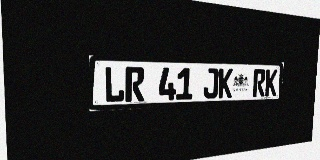1: (176, 68, 193, 100)
4: (159, 67, 176, 101)
J: (203, 68, 219, 99)
K: (218, 68, 233, 98), (265, 69, 278, 96)
L: (104, 66, 125, 103)
R: (125, 67, 144, 102), (253, 69, 266, 97)
